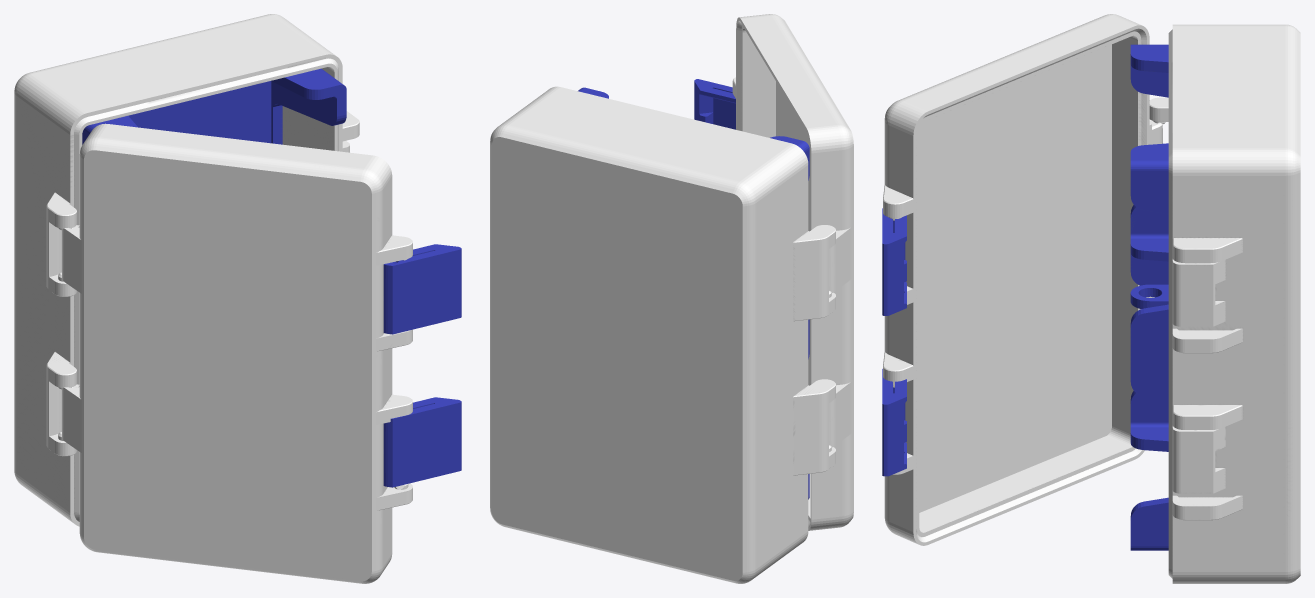
The model's file is caixa_figurinhas.glb.
3 renders of one model, left to right at view 1: azimuth 30°, elevation 25°; view 2: azimuth 150°, elevation 25°; view 3: azimuth 270°, elevation 25°, orthographic. The views are drawn at different scales.
Parts seen in each view (by area): view 1: node_id33, node_id3, node_id37, node_id35; view 2: node_id3, node_id33, node_id37, node_id35; view 3: node_id33, node_id3, node_id35, node_id37.
Boxes of the visible parts, bbox=[...] form: node_id33: bbox=[62, 123, 412, 583]; node_id3: bbox=[14, 14, 359, 526]; node_id37: bbox=[383, 244, 461, 487]; node_id35: bbox=[82, 68, 346, 144]; node_id3: bbox=[490, 86, 835, 583]; node_id33: bbox=[732, 14, 853, 530]; node_id37: bbox=[694, 79, 735, 129]; node_id35: bbox=[578, 87, 809, 499]; node_id33: bbox=[883, 14, 1162, 545]; node_id3: bbox=[1149, 24, 1300, 583]; node_id35: bbox=[1130, 44, 1168, 550]; node_id37: bbox=[882, 208, 906, 476].
Size of the model in its own units: 0.4078 by 0.5141 by 0.4476.
Materials: 4 (4 with a texture image).
